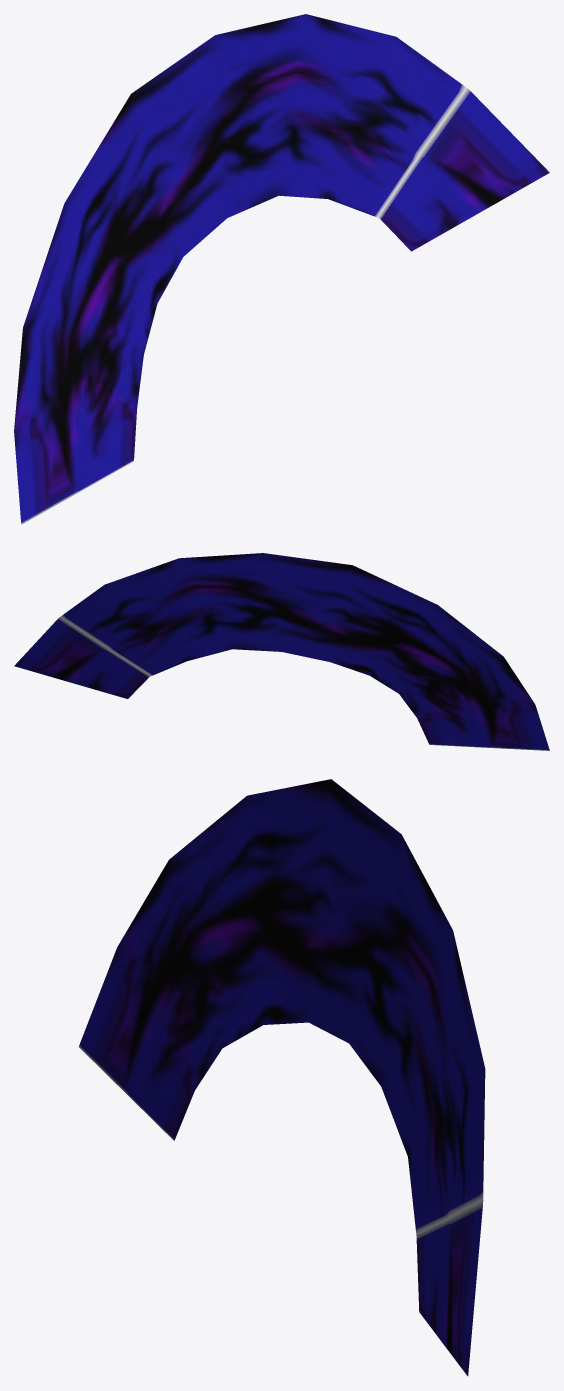
File: effect_dongzhuo_self_4.FBX
3 views of the same model, one above another, from view 1: azimuth 30°, elevation 25°; view 2: azimuth 150°, elevation 25°; view 3: azimuth 270°, elevation 25° (orthographic). The views are drawn at different scales.
Parts seen in each view (by area): view 1: effect_dongzhuo_self_4_1; view 2: effect_dongzhuo_self_4_1; view 3: effect_dongzhuo_self_4_1.
Part boxes in pixels (left/top/right/bottom): effect_dongzhuo_self_4_1: left=14, top=14, right=549, bottom=524; effect_dongzhuo_self_4_1: left=14, top=553, right=549, bottom=750; effect_dongzhuo_self_4_1: left=78, top=779, right=485, bottom=1376.
Bounding box in the file's own units: 448 × 202 × 180.
2 materials, 2 textured.
